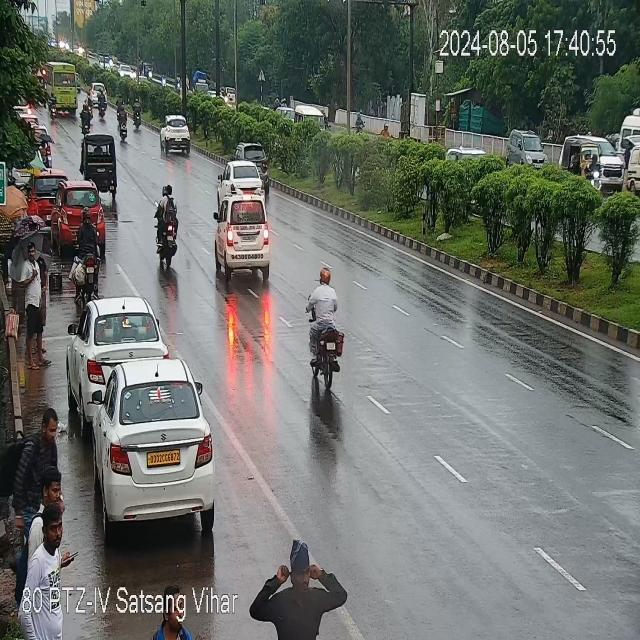2-wheelers: (299, 270, 349, 398), (147, 184, 184, 270), (70, 210, 98, 303), (588, 152, 602, 197), (77, 102, 95, 130), (48, 90, 58, 124), (118, 104, 128, 137), (132, 94, 140, 134), (98, 86, 106, 120), (115, 92, 124, 115), (356, 113, 364, 133), (86, 93, 92, 119), (382, 120, 390, 136)
auto: (76, 133, 122, 189), (565, 138, 597, 173)
bus: (48, 60, 79, 115)
car: (92, 356, 214, 522), (71, 294, 165, 400), (210, 189, 274, 285), (50, 184, 109, 245), (219, 158, 263, 206), (237, 133, 269, 194), (507, 126, 549, 172), (158, 118, 194, 155), (90, 82, 108, 105)
pedestrian: (21, 392, 72, 566), (264, 547, 341, 640), (21, 244, 44, 369), (35, 231, 52, 322)
